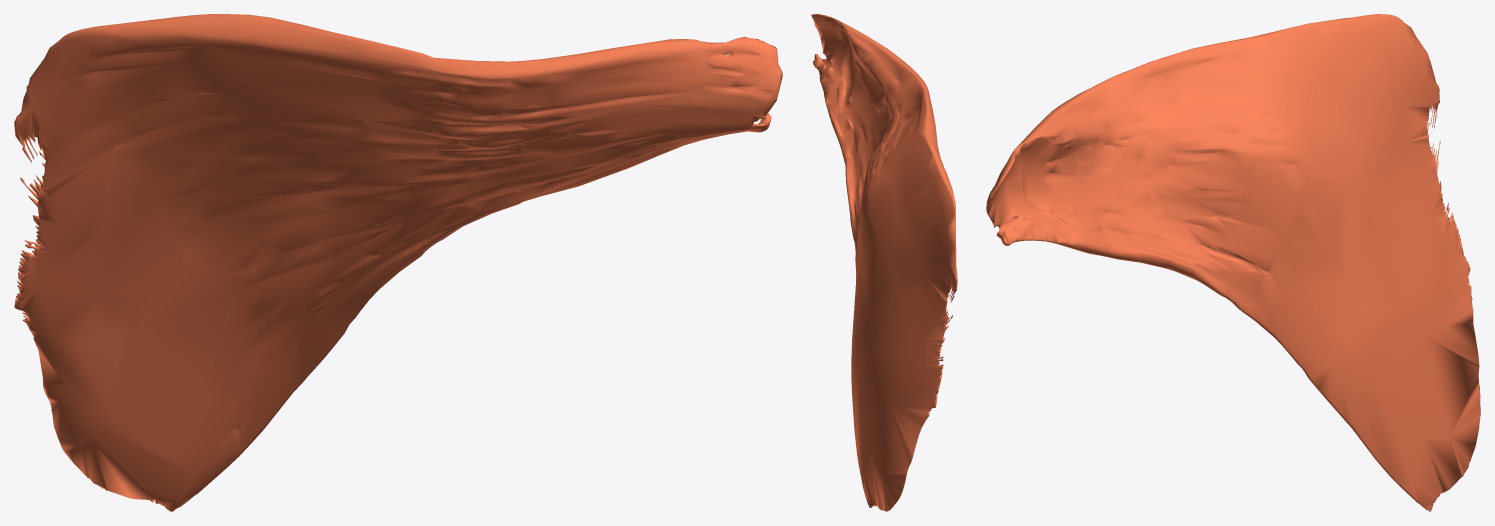
The model's file is Subscapular_muscle.l_Generated_Mesh_From_X3D.186.glb.
3 renders of one model, left to right at view 1: azimuth 30°, elevation 25°; view 2: azimuth 150°, elevation 25°; view 3: azimuth 270°, elevation 25°, orthographic. The views are drawn at different scales.
Parts seen in each view (by area): view 1: Subscapular_muscle.l_Generated_Mesh_From_X3D.186; view 2: Subscapular_muscle.l_Generated_Mesh_From_X3D.186; view 3: Subscapular_muscle.l_Generated_Mesh_From_X3D.186.
Boxes of the visible parts, box(x1,y1,x2,y2) form: Subscapular_muscle.l_Generated_Mesh_From_X3D.186: box(14, 14, 782, 511); Subscapular_muscle.l_Generated_Mesh_From_X3D.186: box(811, 14, 957, 511); Subscapular_muscle.l_Generated_Mesh_From_X3D.186: box(986, 14, 1480, 511).
Size of the model in its own units: 0.105 by 0.1146 by 0.1049.
